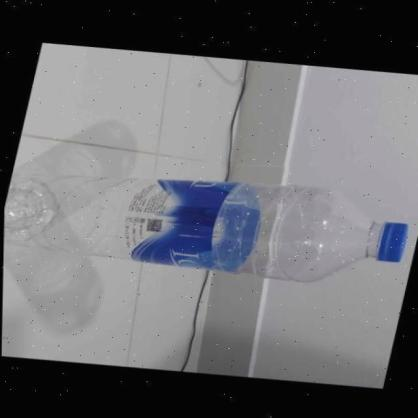bottle: (5, 166, 406, 283)
cap: (376, 223, 403, 266)
label: (129, 179, 256, 275)
